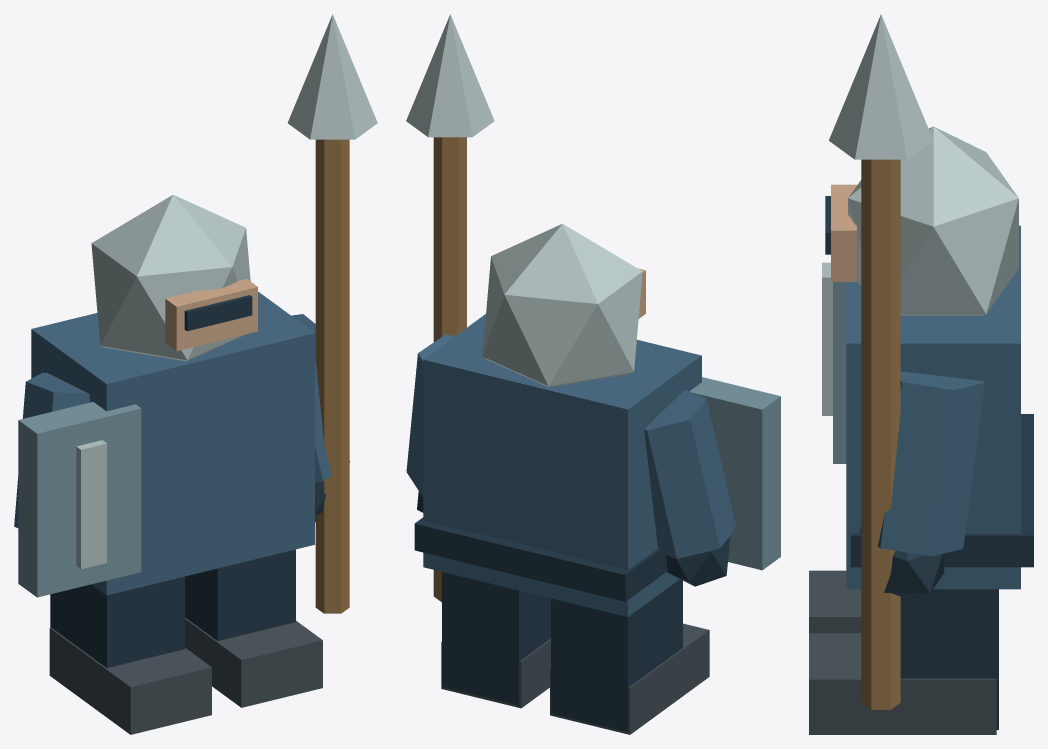
Rendered from guard.glb.
3 views of the same model, side by side, from view 1: azimuth 30°, elevation 25°; view 2: azimuth 150°, elevation 25°; view 3: azimuth 270°, elevation 25° (orthographic). The views are drawn at different scales.
Parts seen in each view (by area): view 1: guard; view 2: guard; view 3: guard.
Part boxes in pixels (x1=…): guard: x1=14, y1=14, x2=377, y2=734; guard: x1=406, y1=14, x2=780, y2=734; guard: x1=809, y1=14, x2=1033, y2=734.
Size of the model in its own units: 1.07 by 1.88 by 0.515.
1 material, 1 textured.
